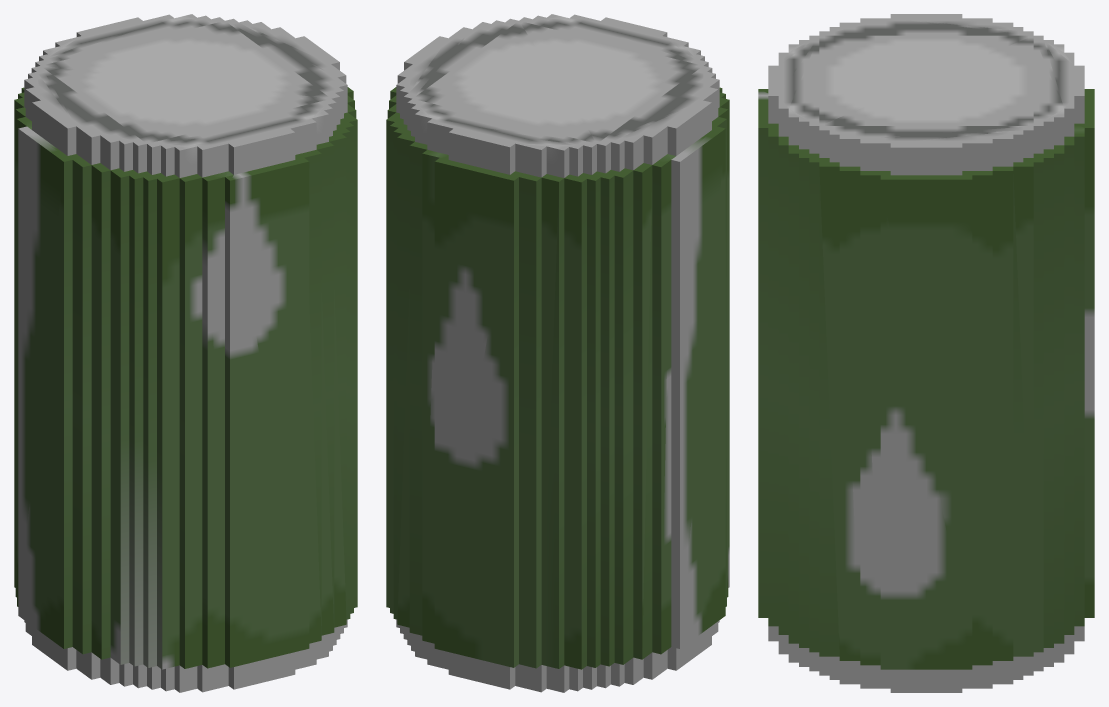
Rendered from Modell_Dose.dae.
3 views of the same model, side by side, from view 1: azimuth 30°, elevation 25°; view 2: azimuth 150°, elevation 25°; view 3: azimuth 270°, elevation 25° (orthographic).
Parts seen in each view (by area): view 1: modell_dose.can; view 2: modell_dose.can; view 3: modell_dose.can.
Boxes of the visible parts, x1,y1,x2,y2 form: modell_dose.can: [14, 14, 357, 692]; modell_dose.can: [386, 14, 729, 692]; modell_dose.can: [758, 14, 1094, 692].
Bounding box in the file's own units: 3.3 × 3.3 × 5.9.
Materials: 1 (1 with a texture image).
